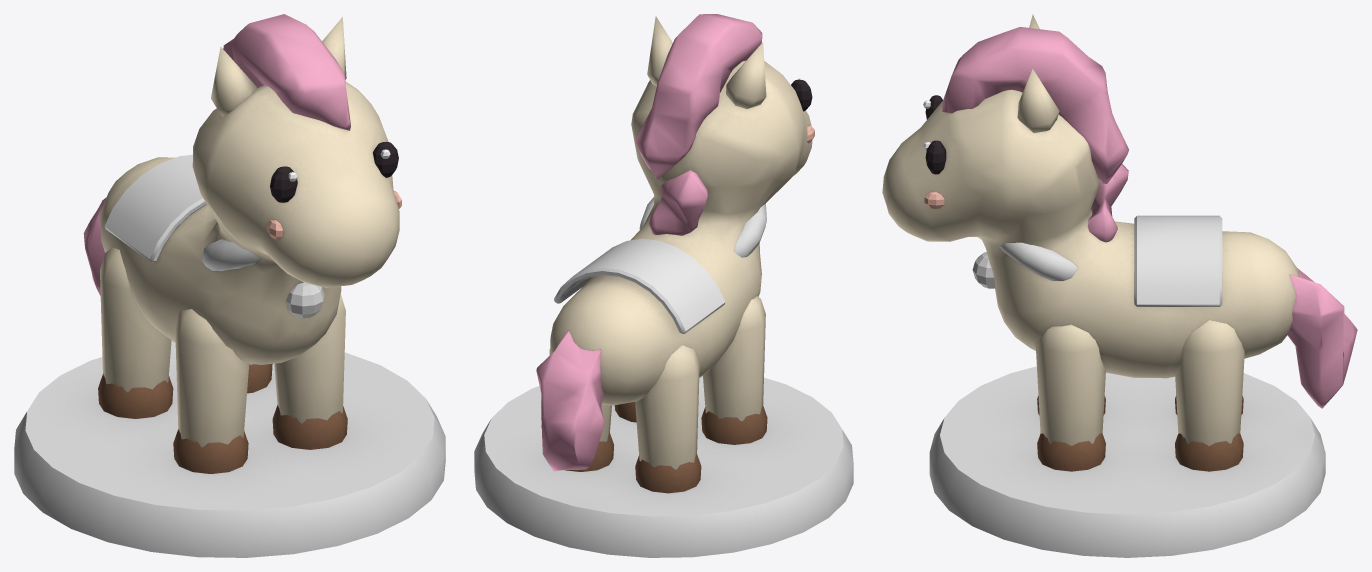
3 views of the same model, side by side, from view 1: azimuth 30°, elevation 25°; view 2: azimuth 150°, elevation 25°; view 3: azimuth 270°, elevation 25° (orthographic). The views are drawn at different scales.
Visible parts, largest first — view 1: TeamColor_Base, Body, Mane, Leg_F_R, Leg_B_R, TeamColor_Saddle, Leg_F_L, TeamColor_Scarf, Hoof_F_R, Hoof_B_R, Hoof_F_L, Ear_R (+5 smaller); view 2: TeamColor_Base, Body, Mane, Tail, TeamColor_Saddle, Leg_B_R, Leg_F_R, Hoof_B_R, Hoof_F_R, Ear_R, TeamColor_Scarf, Ear_L (+1 smaller); view 3: TeamColor_Base, Body, Mane, TeamColor_Saddle, Leg_B_L, Leg_F_L, Tail, TeamColor_Scarf, Hoof_F_L, Hoof_B_L, Ear_L, Eye_L.
Part boxes in pixels (box(x1,y1,x2,y2)): TeamColor_Base: box(14, 341, 445, 557); Body: box(100, 81, 399, 364); Mane: box(223, 14, 350, 130); Leg_F_R: box(175, 309, 249, 447); Leg_B_R: box(100, 247, 171, 392); TeamColor_Saddle: box(104, 154, 206, 262); Leg_F_L: box(274, 294, 345, 423); TeamColor_Scarf: box(202, 239, 324, 318); Hoof_F_R: box(173, 428, 248, 473); Hoof_B_R: box(98, 373, 173, 418); Hoof_F_L: box(272, 405, 347, 449); Ear_R: box(211, 47, 256, 116); TeamColor_Base: box(474, 376, 853, 557); Body: box(550, 60, 812, 405); Mane: box(635, 14, 762, 235); Tail: box(536, 330, 604, 471); TeamColor_Saddle: box(554, 238, 725, 334); Leg_B_R: box(635, 345, 699, 469); Leg_F_R: box(703, 296, 765, 421); Hoof_B_R: box(635, 453, 701, 493); Hoof_F_R: box(701, 405, 767, 444); Ear_R: box(726, 42, 766, 108); TeamColor_Scarf: box(639, 197, 766, 257); Ear_L: box(647, 16, 672, 86); TeamColor_Base: box(929, 366, 1325, 557); Body: box(882, 89, 1298, 378); Mane: box(942, 27, 1128, 242); TeamColor_Saddle: box(1134, 215, 1222, 306); Leg_B_L: box(1175, 320, 1244, 446); Leg_F_L: box(1035, 324, 1105, 446); Tail: box(1287, 268, 1357, 408); TeamColor_Scarf: box(972, 242, 1078, 288); Hoof_F_L: box(1037, 433, 1105, 471); Hoof_B_L: box(1175, 433, 1243, 471); Ear_L: box(1017, 69, 1059, 132); Eye_L: box(925, 140, 946, 174).
Size of the model in its own units: 0.046 by 0.0564 by 0.0552.
1 material, 1 textured.
